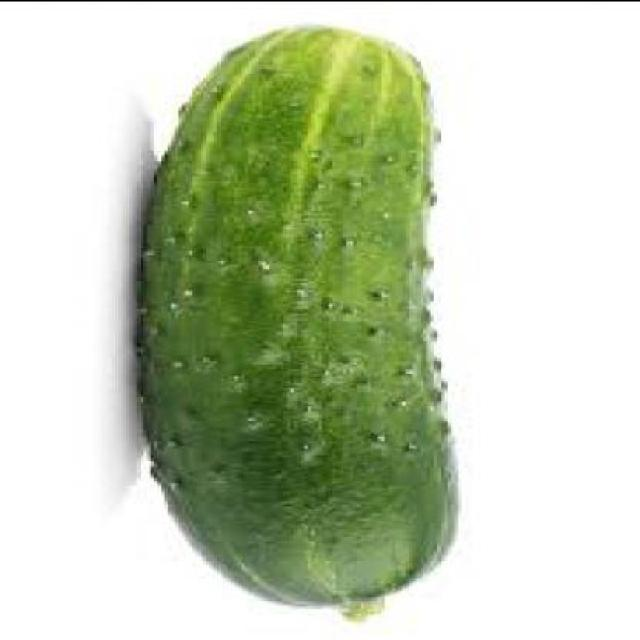BIODEGRADABLE: (138, 26, 458, 611)
